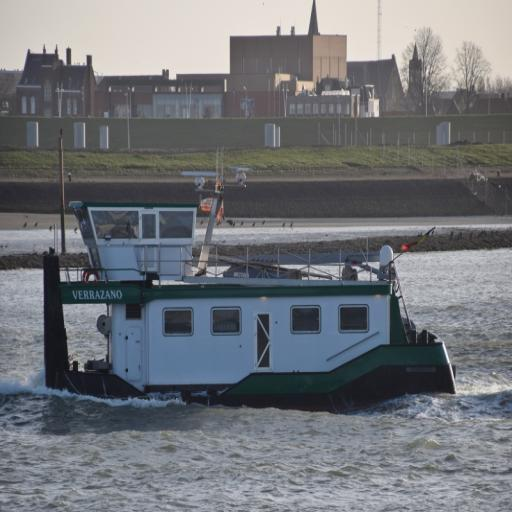tugboat: (40, 165, 463, 420)
